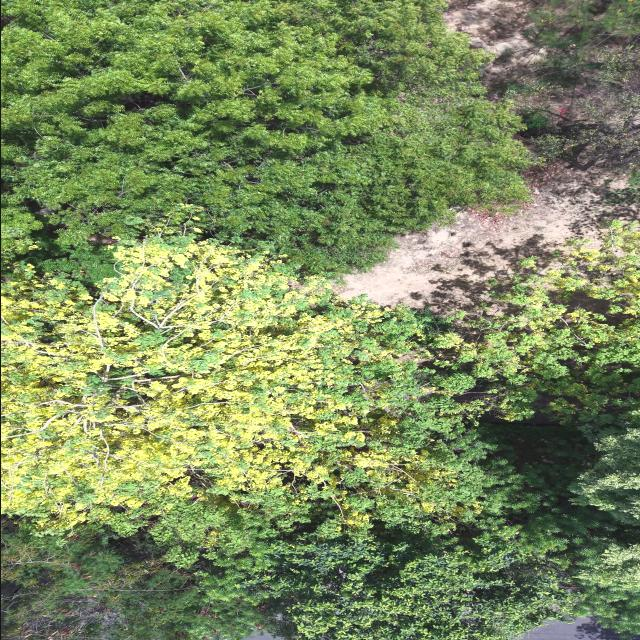DRY_AREA: (338, 147, 639, 314), (339, 155, 639, 314), (340, 168, 638, 314), (341, 175, 638, 313), (444, 0, 639, 131), (444, 0, 544, 89), (444, 0, 538, 59), (352, 273, 425, 306), (520, 618, 624, 639), (523, 618, 621, 639), (245, 631, 281, 639)
VEGETATION_TREE: (1, 0, 639, 639), (3, 228, 639, 639), (1, 0, 527, 278), (1, 237, 485, 536), (491, 0, 639, 190), (527, 0, 639, 49)
